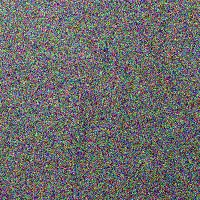inclusion: (64, 42, 122, 175), (92, 39, 113, 80), (25, 5, 37, 30)
